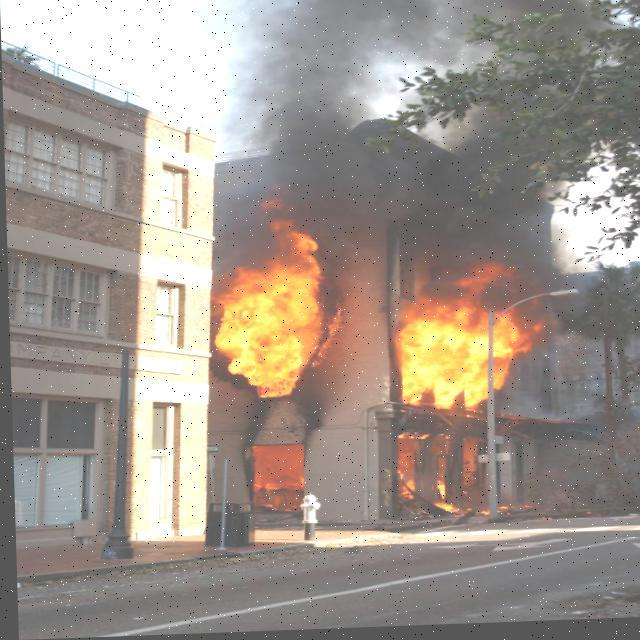Fire: (213, 204, 328, 405), (388, 286, 526, 412), (389, 438, 488, 520)
